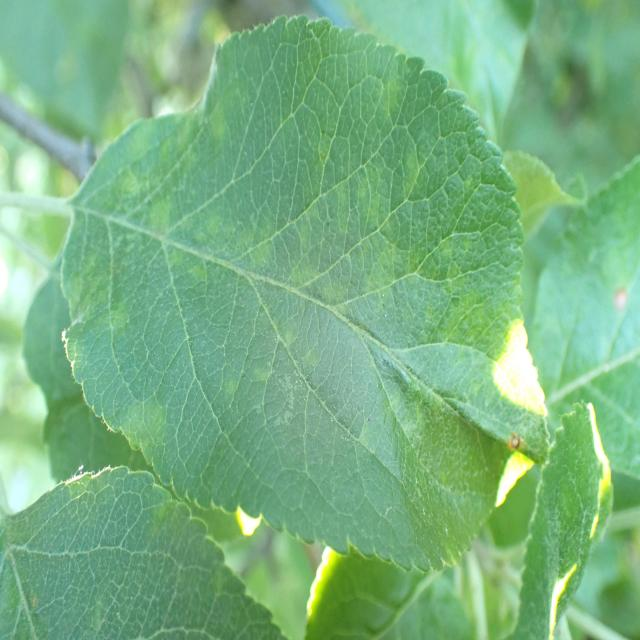scab: (63, 46, 506, 527)
